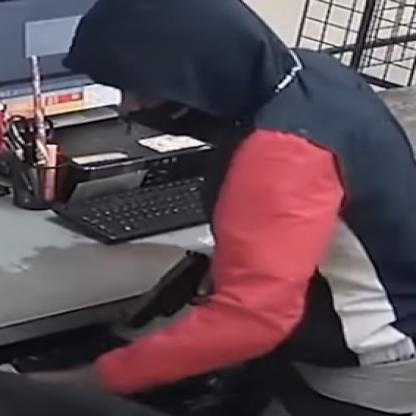criminal: (30, 0, 416, 416)
weapon: (120, 246, 212, 333)
